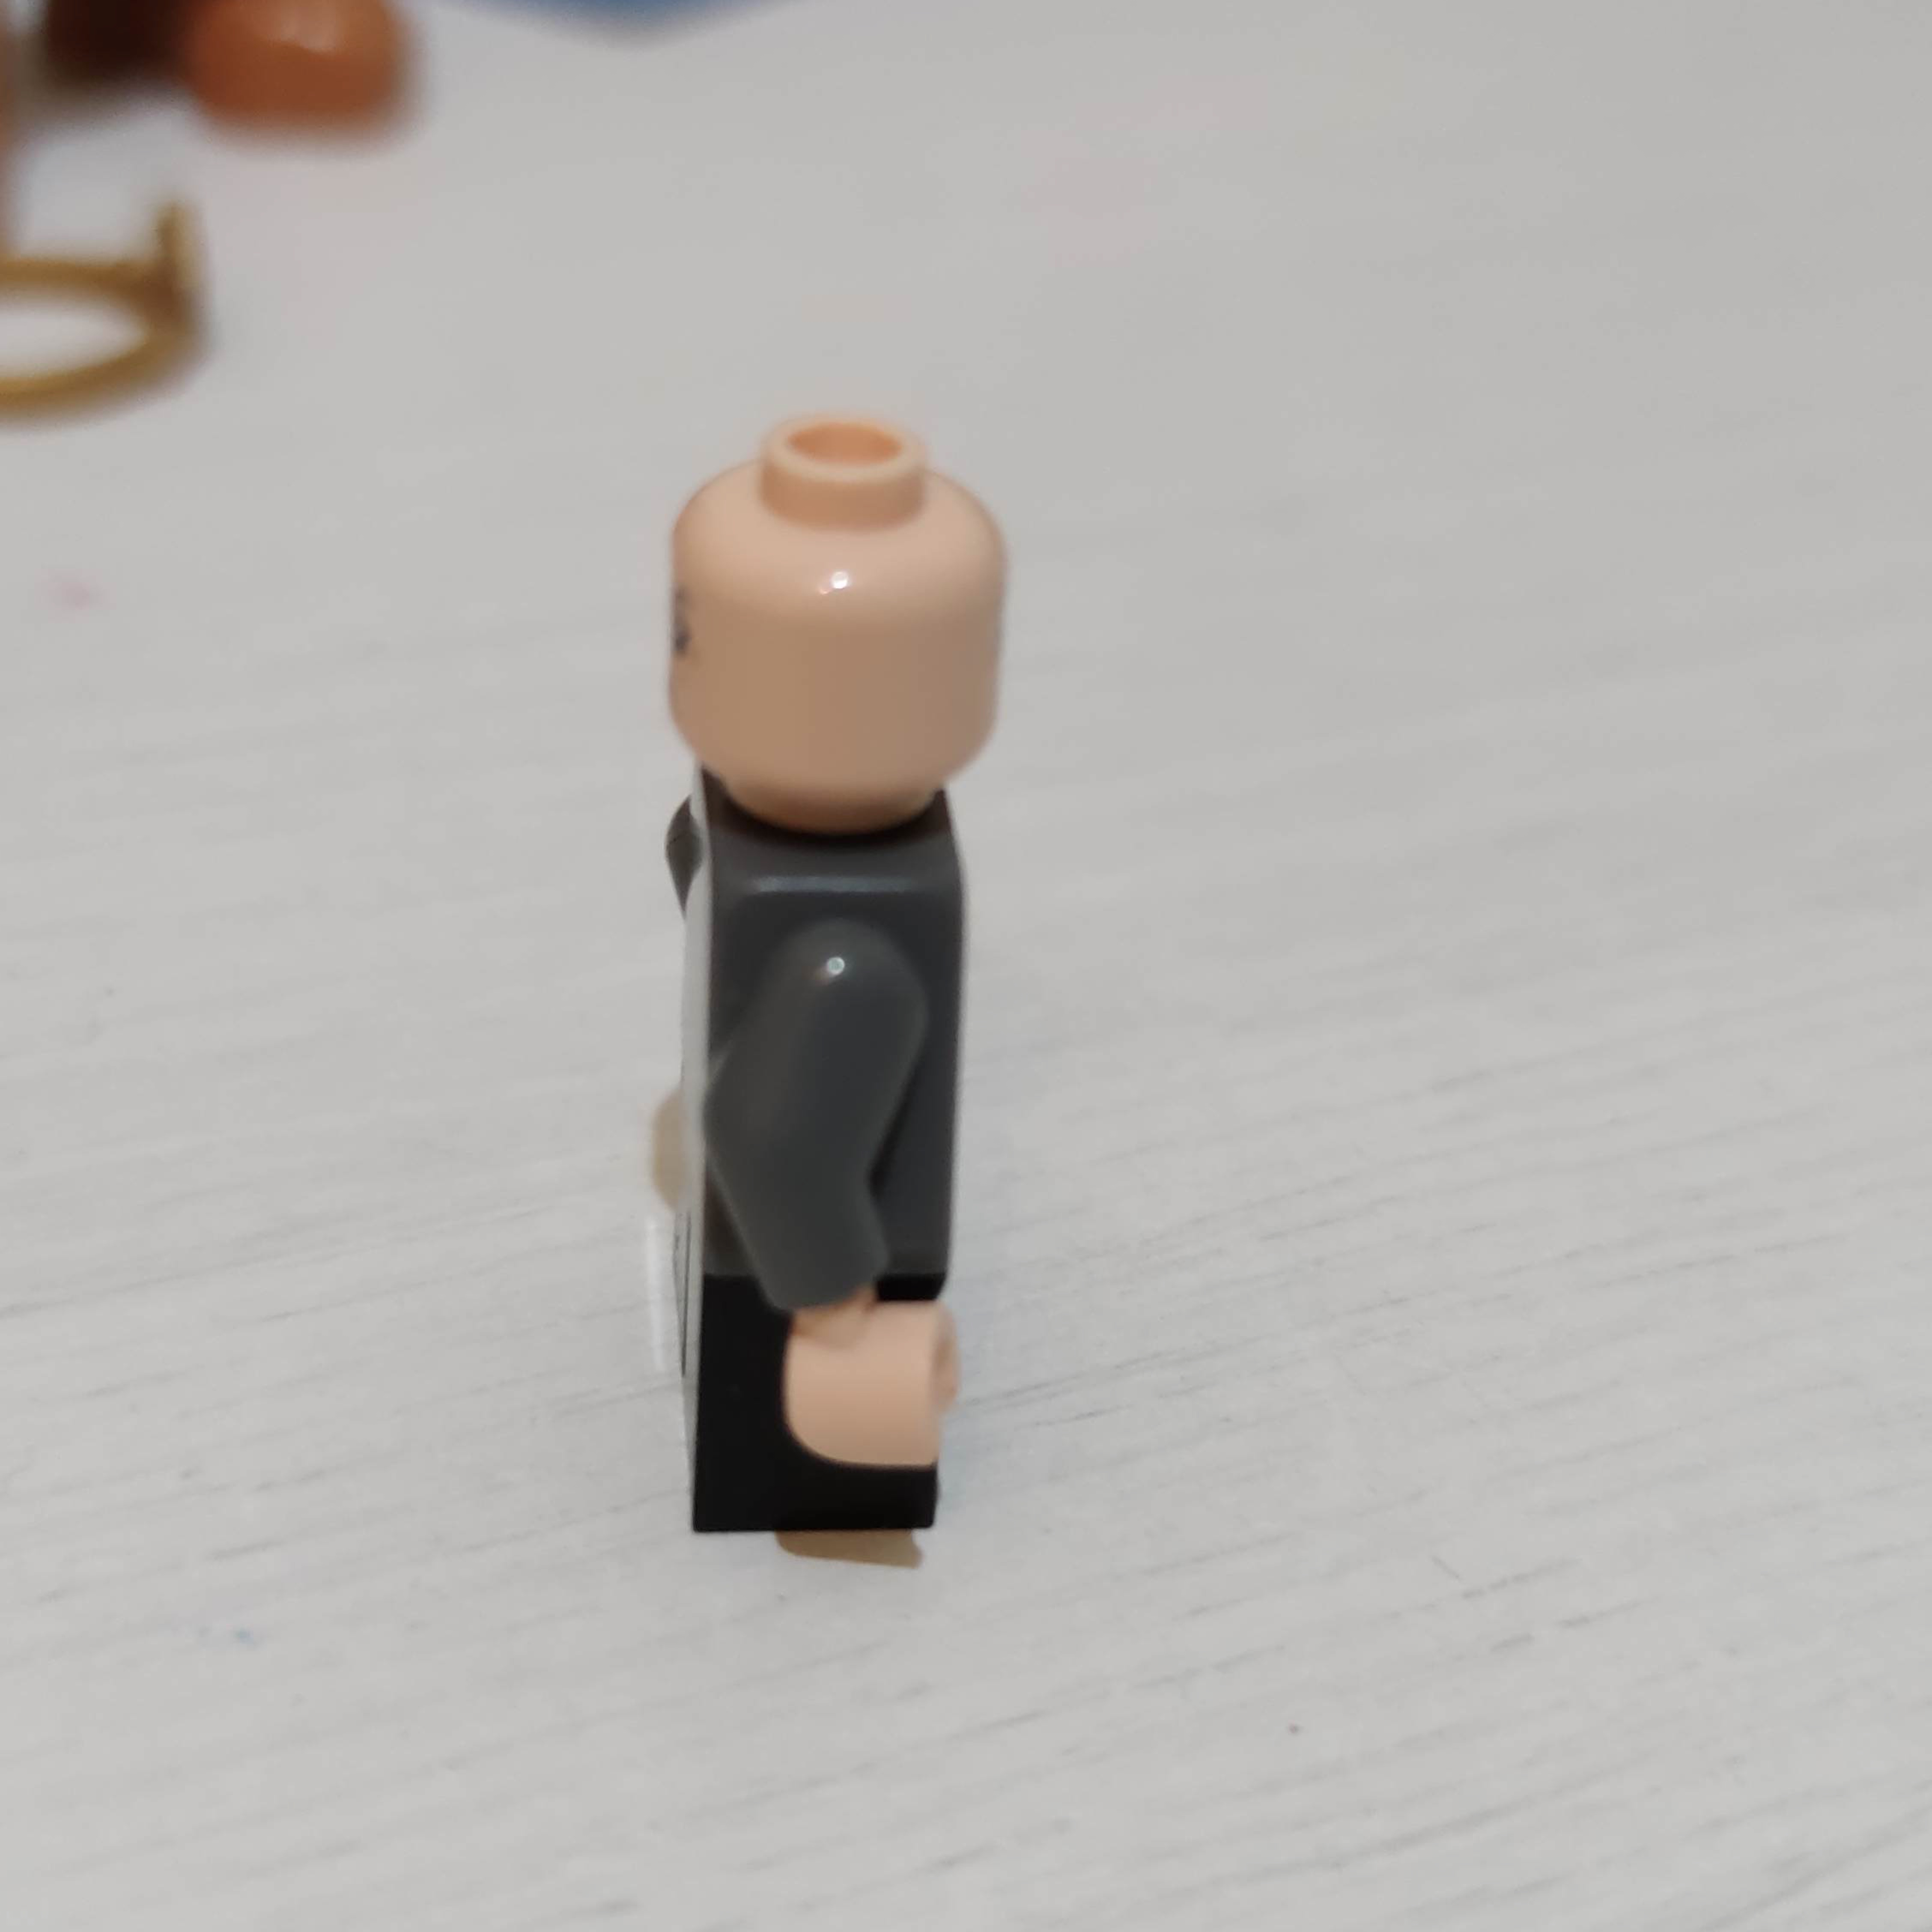lego: (658, 416, 1008, 1536)
